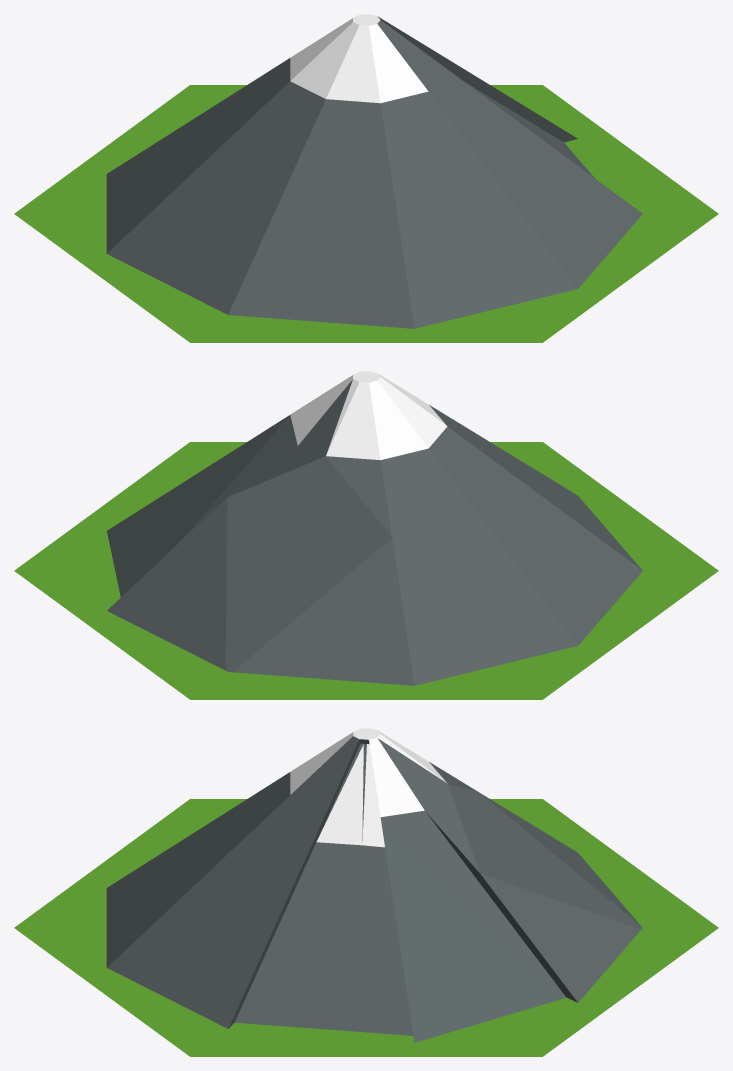
File: mountain.fbx
3 views of the same model, one above another, from view 1: azimuth 30°, elevation 25°; view 2: azimuth 150°, elevation 25°; view 3: azimuth 270°, elevation 25° (orthographic).
Parts seen in each view (by area): view 1: Cone, Circle; view 2: Cone, Circle; view 3: Cone, Circle.
Part boxes in pixels (<box>): Cone: <box>106,14,642,328</box>; Circle: <box>14,85,718,342</box>; Cone: <box>107,371,642,685</box>; Circle: <box>14,442,718,699</box>; Cone: <box>106,728,642,1042</box>; Circle: <box>14,799,718,1056</box>.
Bounding box in the file's own units: 173 × 64.48 × 200.
